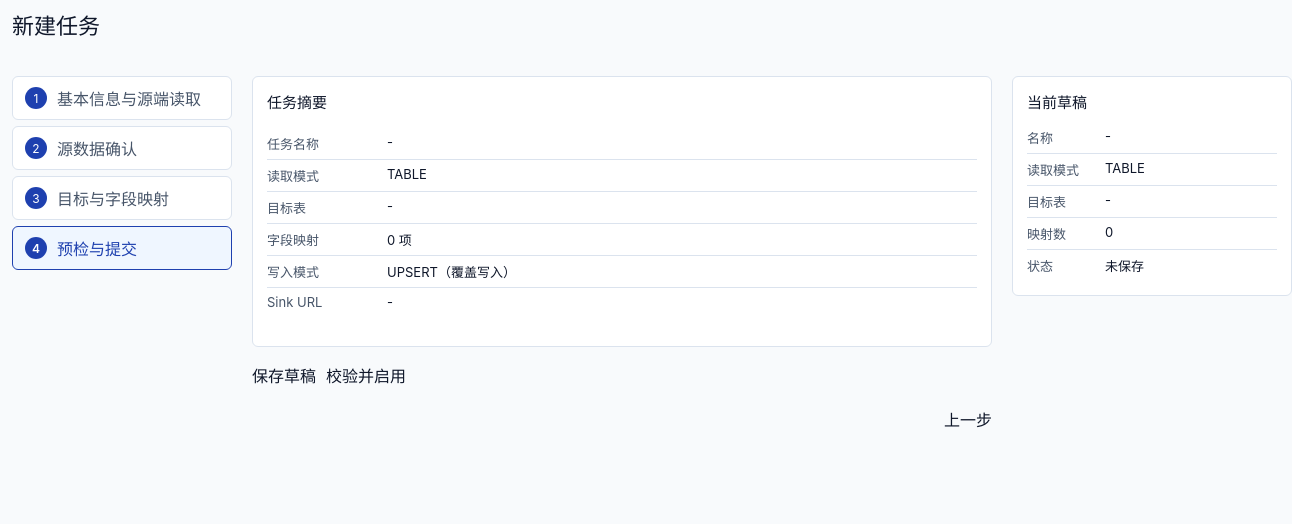
Test: TaskCreateView › 预检通过后保存、启用并展示首次全量动作
Click the text with test id "validate-enable".
click(366, 375)  # box [326,363,406,387]
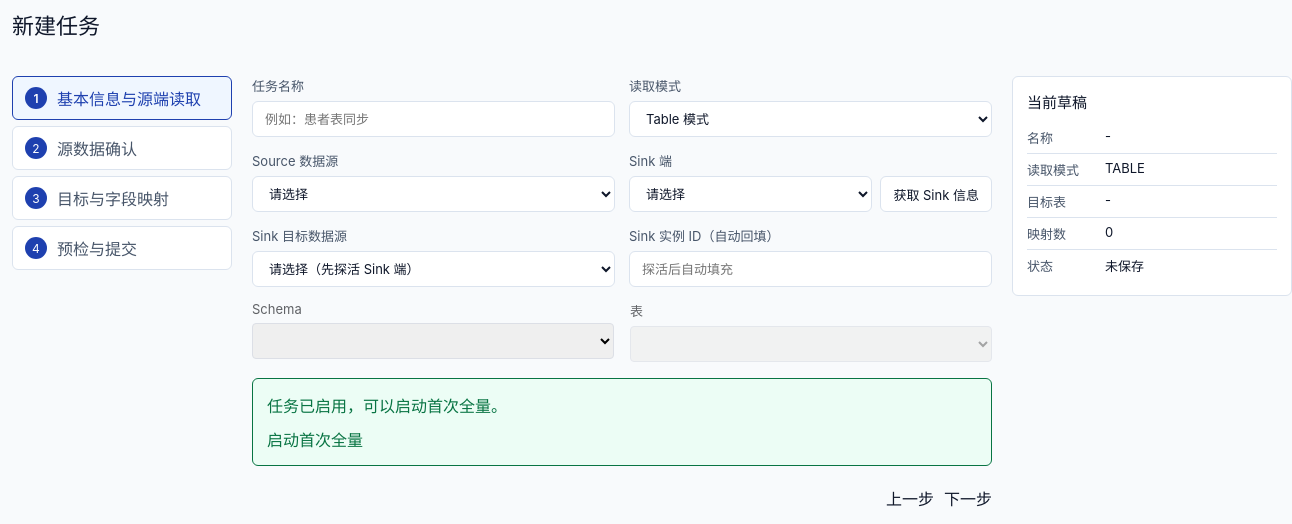
Result: the text "启动首次全量" is shown at [267,430,363,450]
